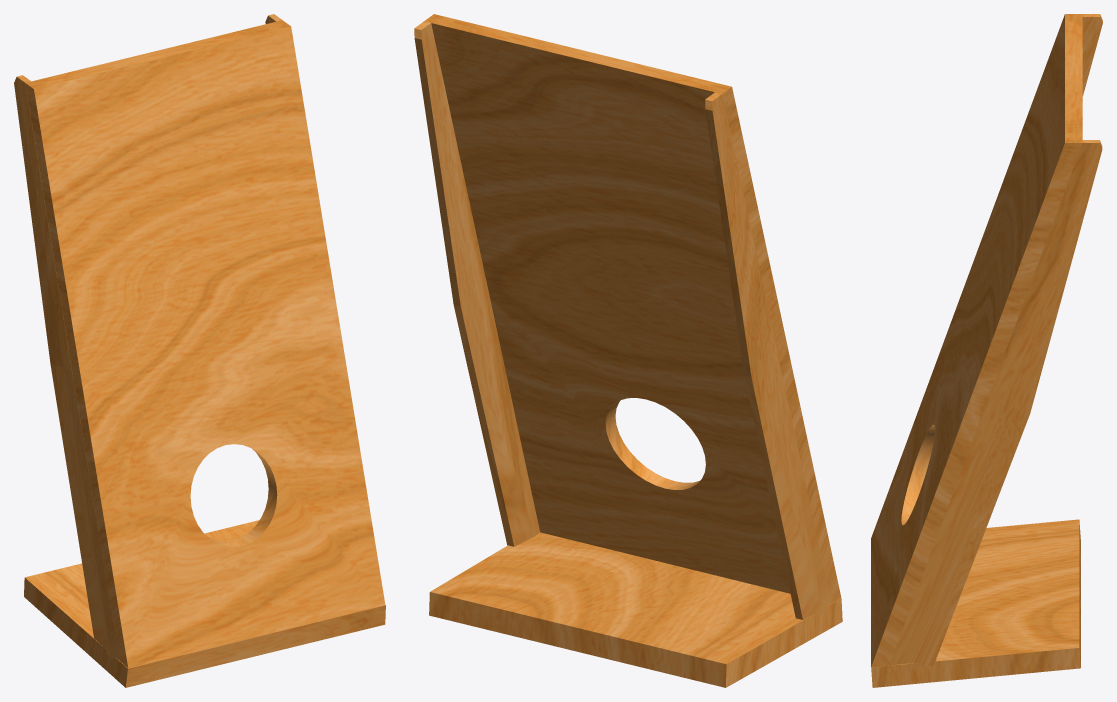
Rendered from Tyler_cornholeBoard.obj.
3 renders of one model, left to right at view 1: azimuth 30°, elevation 25°; view 2: azimuth 150°, elevation 25°; view 3: azimuth 270°, elevation 25°, orthographic. The views are drawn at different scales.
Visible parts, largest first — view 1: Cube_Cube.001; view 2: Cube_Cube.001; view 3: Cube_Cube.001.
Boxes of the visible parts, x1,y1,x2,y2 form: Cube_Cube.001: [14, 14, 385, 687]; Cube_Cube.001: [414, 14, 842, 687]; Cube_Cube.001: [871, 14, 1102, 687].
Bounding box in the file's own units: 202 × 394 × 152.
